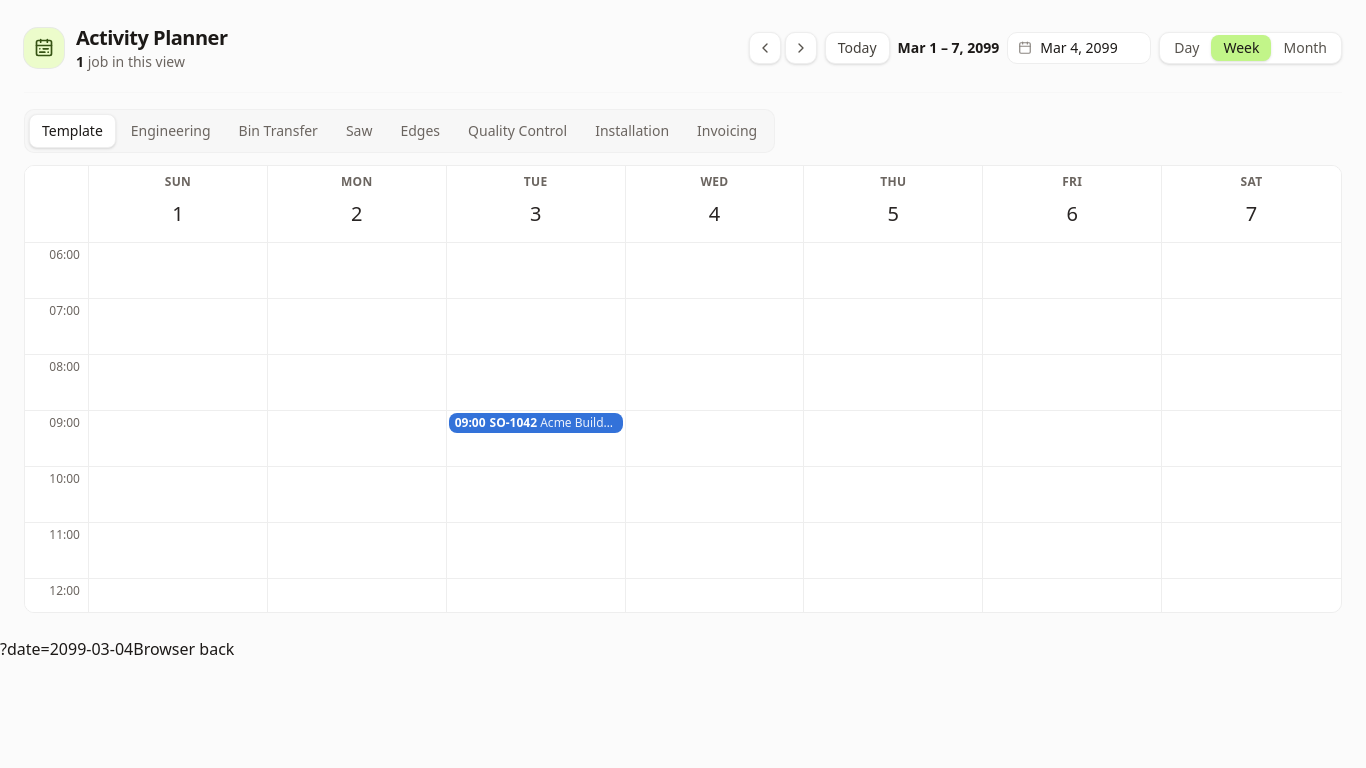
it: ActivityPlannerPage › opens a detail card from a chip, with the customer, the status and a link to the order
(page scrolled)
Step 1. Click the button with aria-label "SO-1042," → (536, 423), box [449,413,623,433]
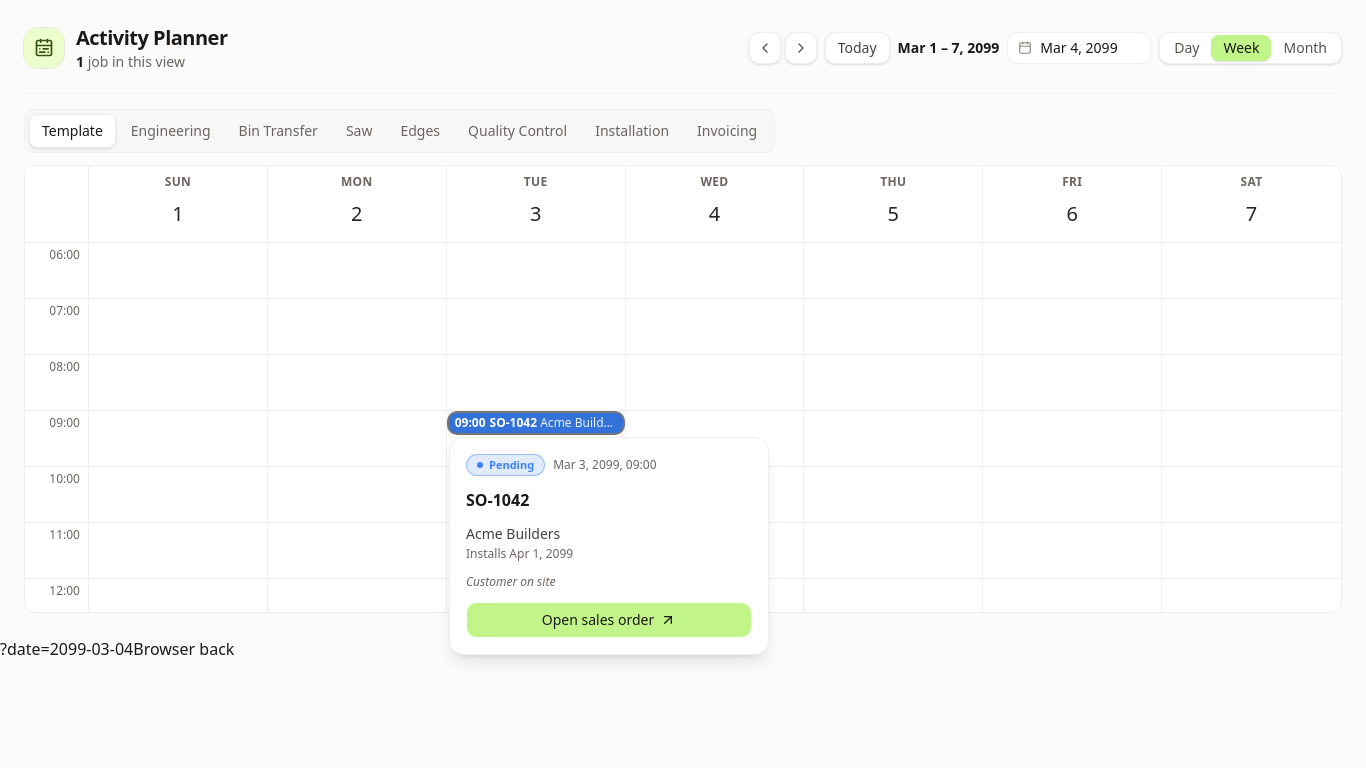
Expected: the text "SO-1042" below "Mar 3, 2099, 09:00" is shown, [466,489,529,511]
Expected: the text "Acme Builders" below "Mar 3, 2099, 09:00" is shown, [466,524,560,543]
Expected: the text "Pending" is shown, [466,454,545,476]
